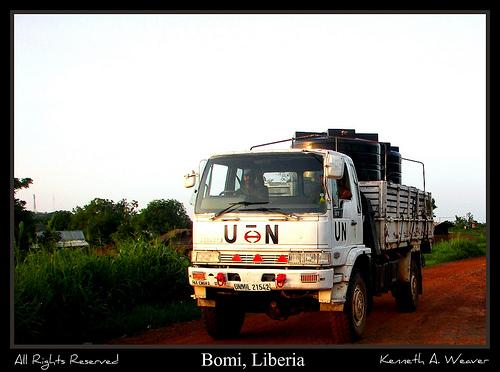truck: (181, 126, 421, 325)
